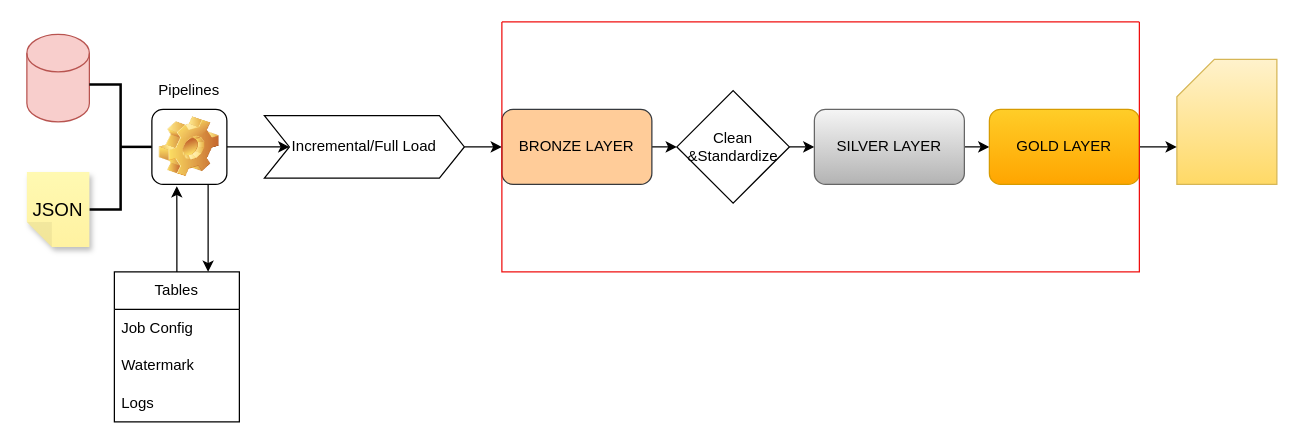
Some shapes in this 1299 by 444 pixel diagram are drawn without their labels. The centre of each missing label's shape, as x and y in pixels:
CRM: point 57,77
LAKEHOUSE: point 820,146
PowerBI Dashboards: point 1226,121
